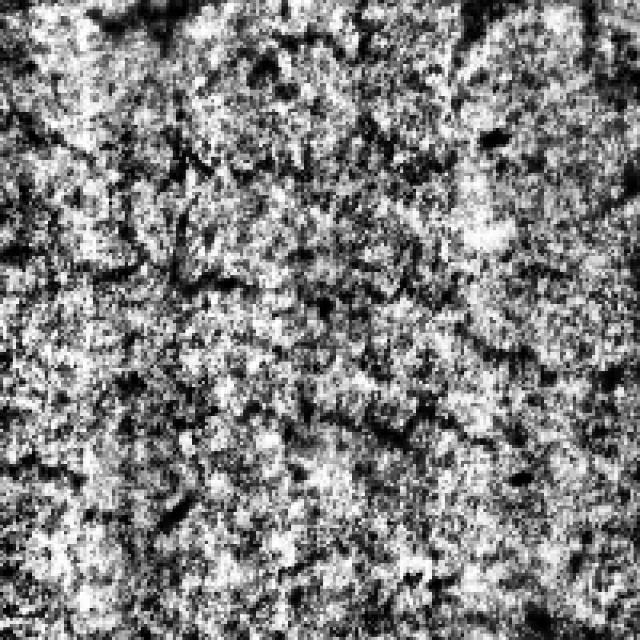Pitted_Surface: (9, 234, 612, 528), (19, 26, 470, 182)
